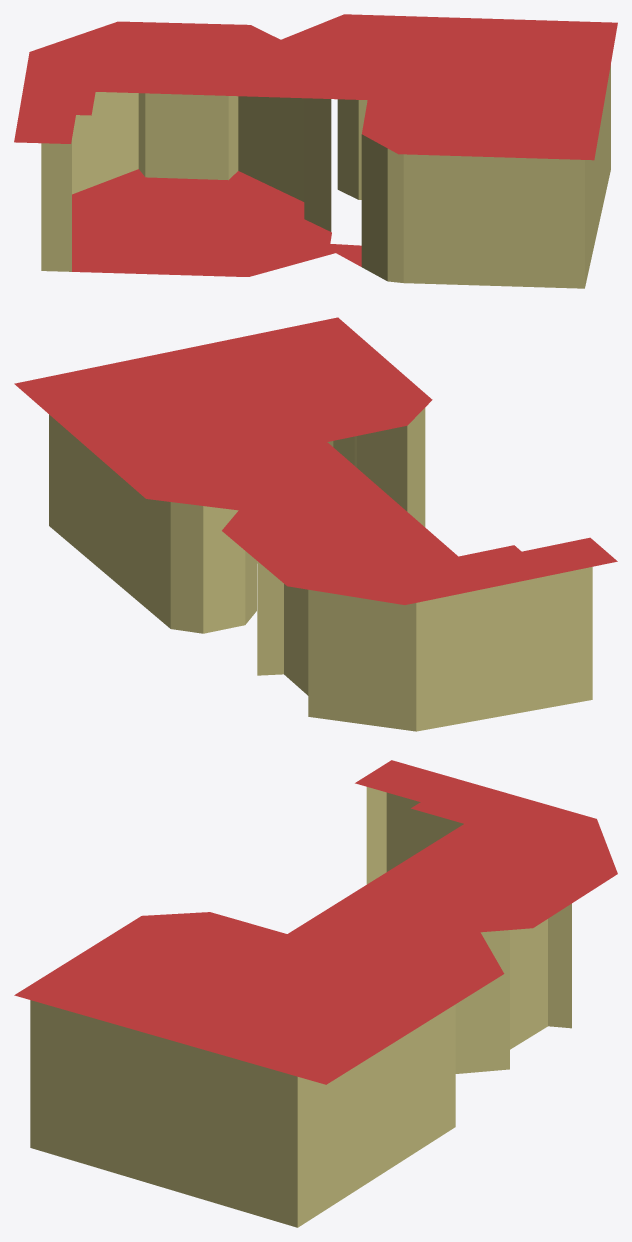
3 views of the same model, one above another, from view 1: azimuth 30°, elevation 25°; view 2: azimuth 150°, elevation 25°; view 3: azimuth 270°, elevation 25° (orthographic). The views are drawn at different scales.
Visible parts, largest first — view 1: group_5, group_3, group_6, group_4; view 2: group_3, group_5, group_4; view 3: group_3, group_5, group_4.
Boxes of the visible parts, x1,y1,x2,y2 form: group_5: (41, 64, 610, 288); group_3: (14, 14, 617, 160); group_6: (72, 169, 361, 276); group_4: (49, 67, 443, 142); group_3: (14, 317, 617, 604); group_5: (49, 408, 592, 731); group_4: (229, 411, 591, 550); group_3: (14, 760, 617, 1084); group_5: (30, 787, 571, 1227); group_4: (240, 775, 387, 974).
Bounding box in the file's own units: 32.39 × 25.45 × 7.16.
